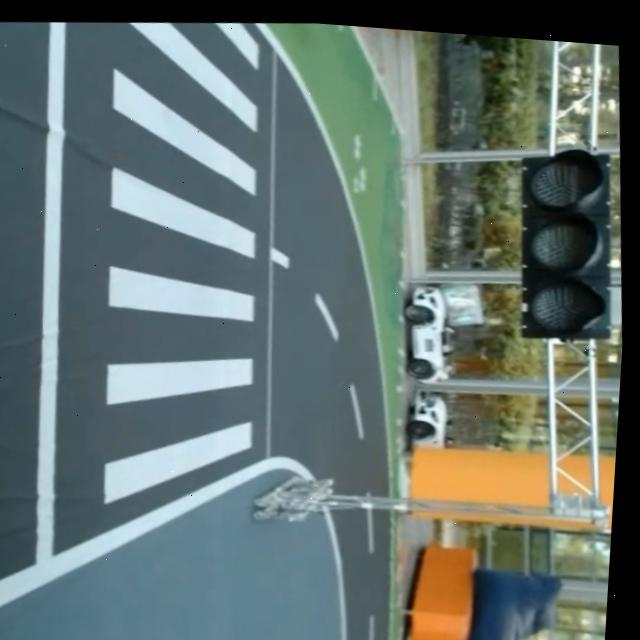traffic-light: (501, 139, 626, 351)
